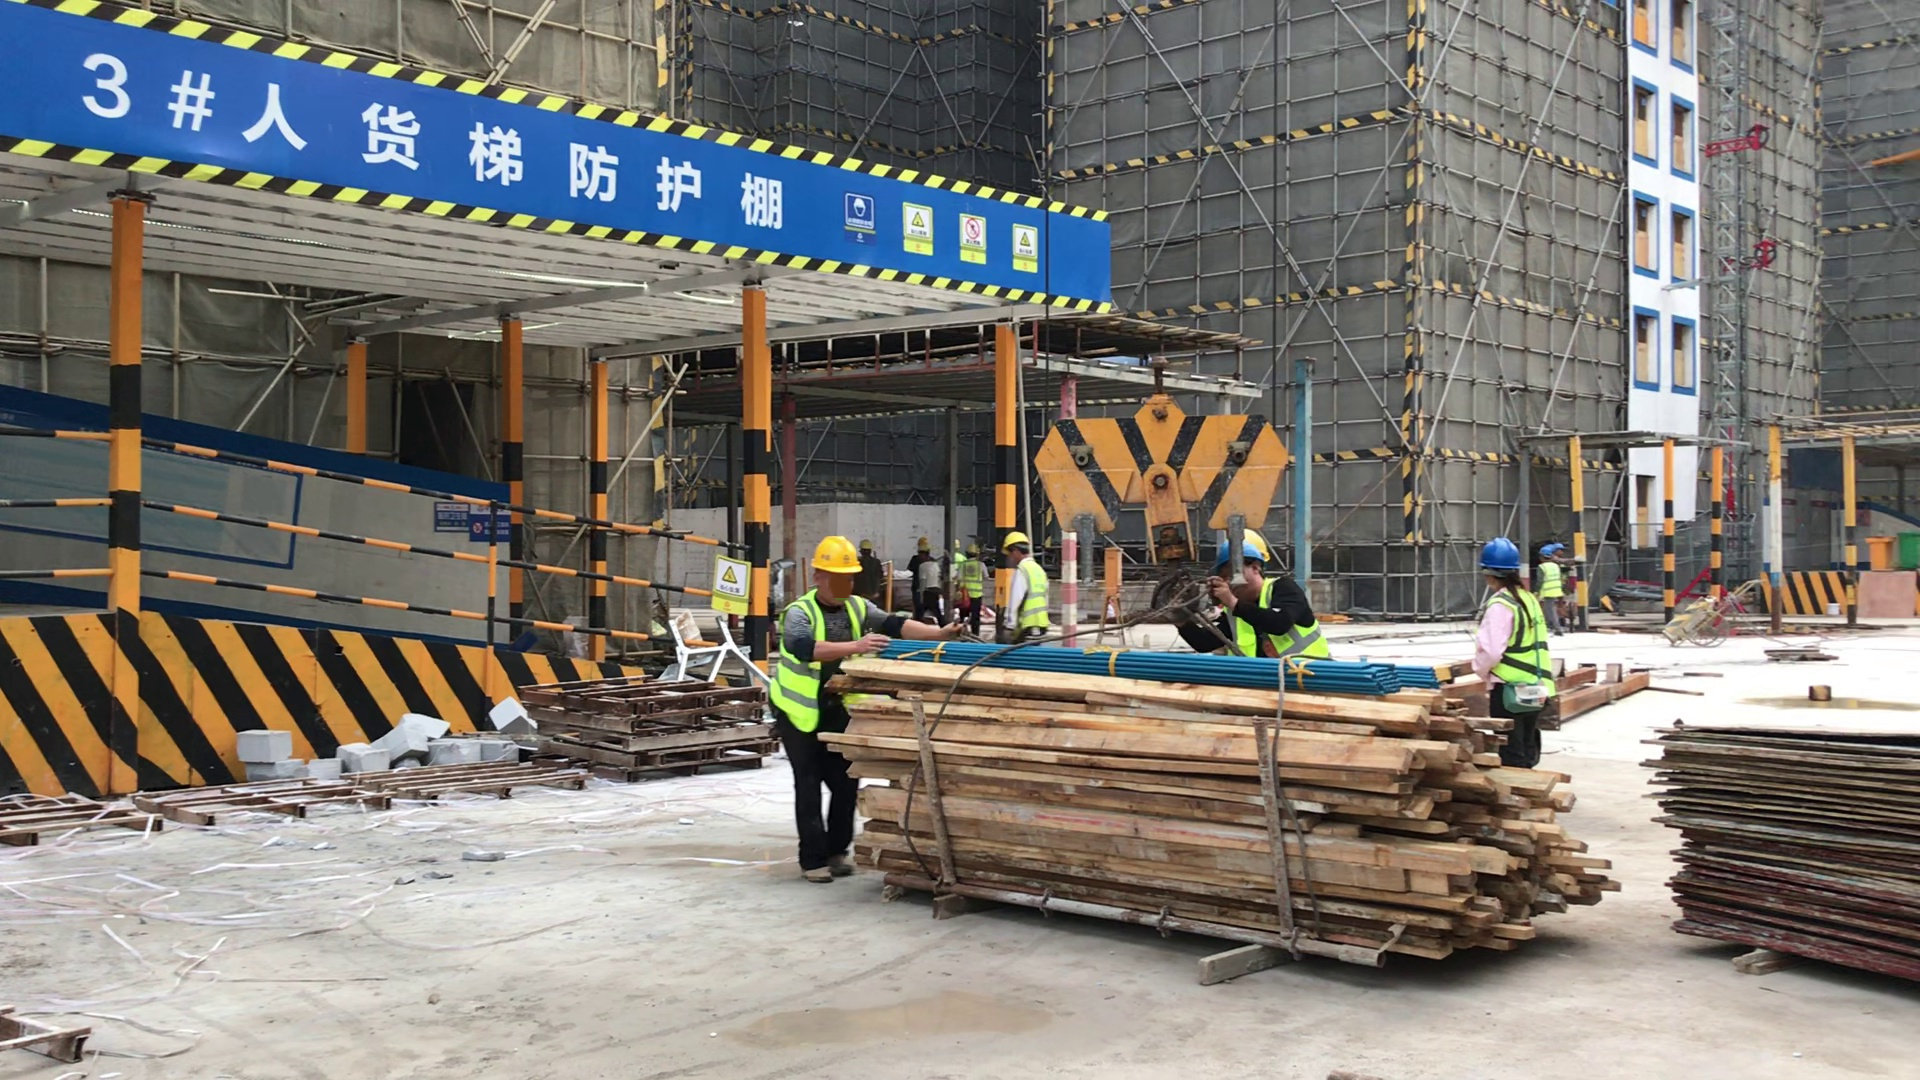board: (1655, 713, 1920, 992)
handcart: (1658, 577, 1761, 657)
helmet: (811, 533, 867, 579), (1214, 538, 1270, 570), (1477, 537, 1524, 573), (1000, 530, 1032, 556), (1540, 542, 1568, 562), (915, 536, 931, 553), (963, 545, 980, 556), (861, 537, 873, 551)
hook: (1031, 364, 1283, 571)
person: (779, 525, 886, 883), (1461, 537, 1555, 763), (1208, 533, 1330, 661), (995, 532, 1052, 644), (1538, 541, 1578, 636), (908, 535, 946, 626), (961, 544, 987, 636), (854, 534, 886, 605)
slogan: (835, 182, 1043, 286), (711, 551, 757, 634)
vest: (778, 590, 865, 736), (1220, 580, 1331, 659), (1485, 589, 1554, 691), (1019, 559, 1050, 631), (1538, 562, 1563, 600), (960, 560, 985, 599)
wood: (834, 654, 1608, 972)
